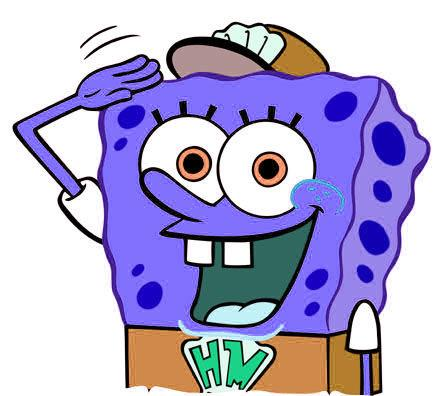SpongeBob: (7, 21, 432, 393)
